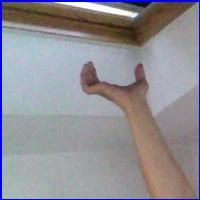space: (78, 57, 155, 109)
